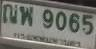letters: (19, 6, 33, 27), (3, 4, 17, 24), (82, 14, 94, 35), (56, 11, 67, 31), (43, 9, 54, 28), (69, 13, 80, 32)
province: (14, 33, 80, 47)
